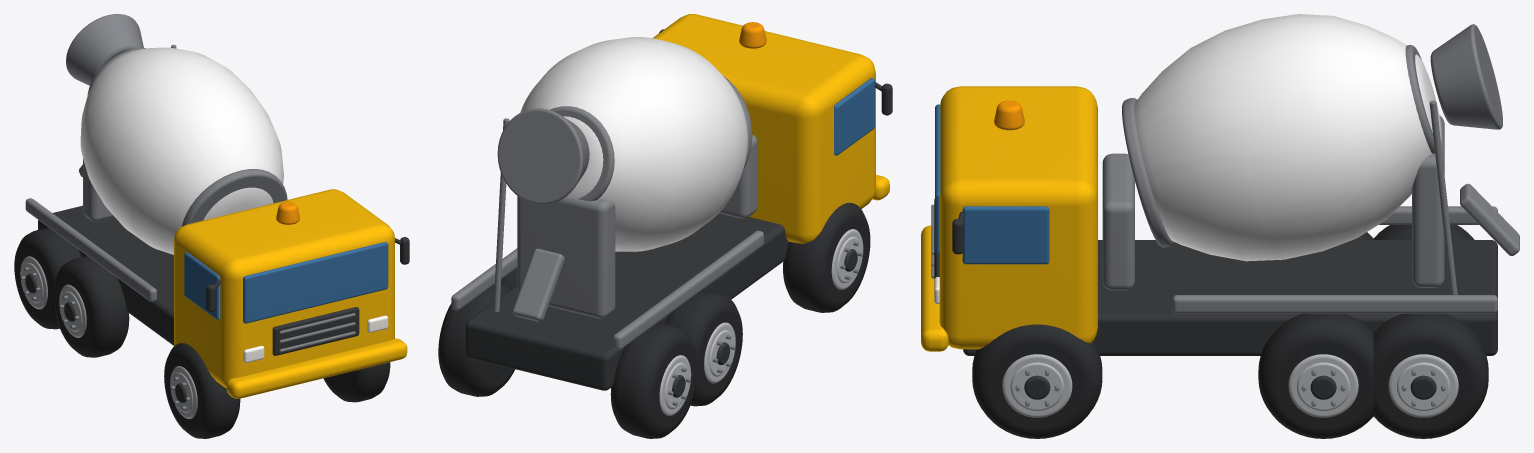
The model's file is CementMixer.glb.
The picture shows the model from 3 angles, left to right: view 1: azimuth 30°, elevation 25°; view 2: azimuth 150°, elevation 25°; view 3: azimuth 270°, elevation 25°; orthographic projection. The views are drawn at different scales.
Visible parts, largest first — view 1: Mix_Drum, CementMixer_CementMixer_Root_Yellow, CementMixer_CementMixer_Root_Glass, CementMixer_CementMixer_Root_DarkGrey, CementMixer_CementMixer_Root_SteelGrey, Mix_WheelR1_Tire, Mix_WheelR0_Tire, Mix_WheelR2_Tire, CementMixer_Drum_SteelGrey, Mix_WheelL0_Tire, CementMixer_Wheel_WheelR2_LightGrey, CementMixer_Wheel_WheelR1_LightGrey (+3 smaller); view 2: Mix_Drum, CementMixer_CementMixer_Root_SteelGrey, CementMixer_CementMixer_Root_Yellow, CementMixer_CementMixer_Root_DarkGrey, Mix_WheelR2_Tire, Mix_WheelR0_Tire, Mix_WheelL2_Tire, Mix_WheelR1_Tire, CementMixer_CementMixer_Root_Glass, CementMixer_Drum_SteelGrey, CementMixer_Wheel_WheelR0_LightGrey, CementMixer_Wheel_WheelR2_LightGrey (+2 smaller); view 3: Mix_Drum, CementMixer_CementMixer_Root_Yellow, CementMixer_CementMixer_Root_DarkGrey, CementMixer_CementMixer_Root_SteelGrey, Mix_WheelL2_Tire, Mix_WheelL1_Tire, Mix_WheelL0_Tire, CementMixer_CementMixer_Root_Glass, CementMixer_Drum_SteelGrey, CementMixer_Wheel_WheelL1_LightGrey, CementMixer_Wheel_WheelL2_LightGrey, CementMixer_Wheel_WheelL0_LightGrey (+2 smaller).
Part boxes in pixels (x1,y1,x2,y2): Mix_Drum: [80, 47, 283, 254]; CementMixer_CementMixer_Root_Yellow: [174, 189, 407, 398]; CementMixer_CementMixer_Root_Glass: [184, 242, 388, 323]; CementMixer_CementMixer_Root_DarkGrey: [38, 205, 409, 355]; CementMixer_CementMixer_Root_SteelGrey: [25, 14, 355, 352]; Mix_WheelR1_Tire: [54, 256, 129, 357]; Mix_WheelR0_Tire: [164, 343, 240, 438]; Mix_WheelR2_Tire: [14, 227, 81, 329]; CementMixer_Drum_SteelGrey: [87, 48, 287, 226]; Mix_WheelL0_Tire: [323, 362, 390, 402]; CementMixer_Wheel_WheelR2_LightGrey: [20, 256, 47, 309]; CementMixer_Wheel_WheelR1_LightGrey: [59, 284, 86, 337]; Mix_Drum: [520, 37, 747, 251]; CementMixer_CementMixer_Root_SteelGrey: [451, 108, 763, 349]; CementMixer_CementMixer_Root_Yellow: [652, 14, 889, 243]; CementMixer_CementMixer_Root_DarkGrey: [465, 29, 892, 390]; Mix_WheelR2_Tire: [610, 322, 696, 438]; Mix_WheelR0_Tire: [783, 202, 870, 312]; Mix_WheelL2_Tire: [438, 283, 514, 396]; Mix_WheelR1_Tire: [665, 289, 742, 406]; CementMixer_CementMixer_Root_Glass: [834, 78, 874, 155]; CementMixer_Drum_SteelGrey: [550, 75, 752, 201]; CementMixer_Wheel_WheelR0_LightGrey: [831, 229, 863, 289]; CementMixer_Wheel_WheelR2_LightGrey: [659, 355, 691, 416]; Mix_Drum: [1135, 14, 1441, 261]; CementMixer_CementMixer_Root_Yellow: [921, 86, 1097, 351]; CementMixer_CementMixer_Root_DarkGrey: [934, 199, 1497, 355]; CementMixer_CementMixer_Root_SteelGrey: [931, 24, 1519, 313]; Mix_WheelL2_Tire: [1373, 313, 1488, 438]; Mix_WheelL1_Tire: [1258, 313, 1373, 438]; Mix_WheelL0_Tire: [972, 324, 1102, 438]; CementMixer_CementMixer_Root_Glass: [935, 104, 1049, 264]; CementMixer_Drum_SteelGrey: [1122, 45, 1434, 247]; CementMixer_Wheel_WheelL1_LightGrey: [1288, 354, 1358, 417]; CementMixer_Wheel_WheelL2_LightGrey: [1388, 354, 1458, 417]; CementMixer_Wheel_WheelL0_LightGrey: [1002, 354, 1072, 417].
Size of the model in its own units: 1.29 by 1.71 by 2.57.
8 materials, 8 textured.
